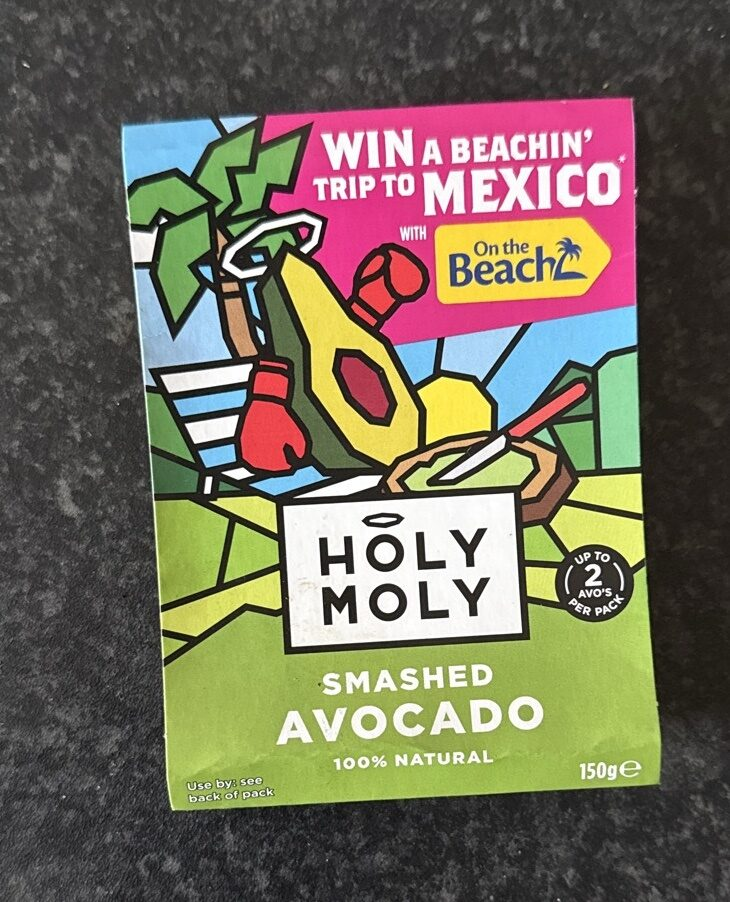Breakfast avocado: (36, 45, 694, 857)
